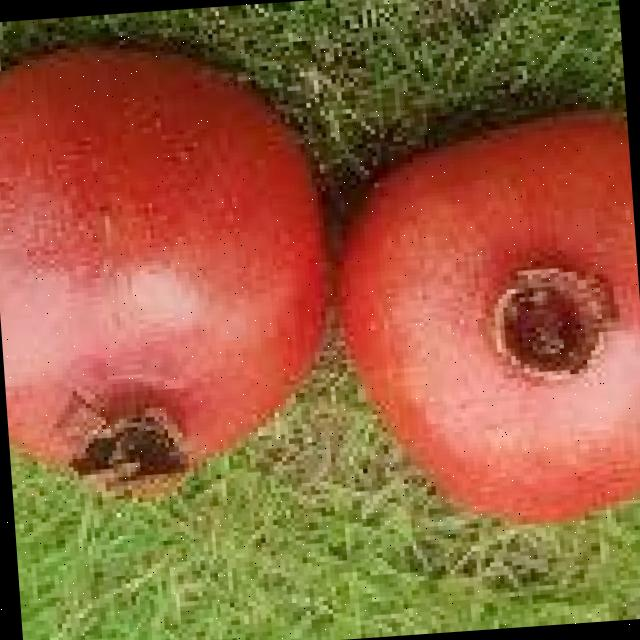Good_Lime-10-21 days: (0, 0, 640, 568)
Good_Pomegranate 50-60-days: (0, 12, 353, 511), (324, 98, 640, 540)
